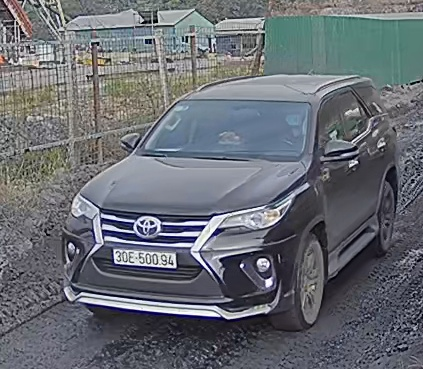vehicle plate: (109, 246, 183, 272)
